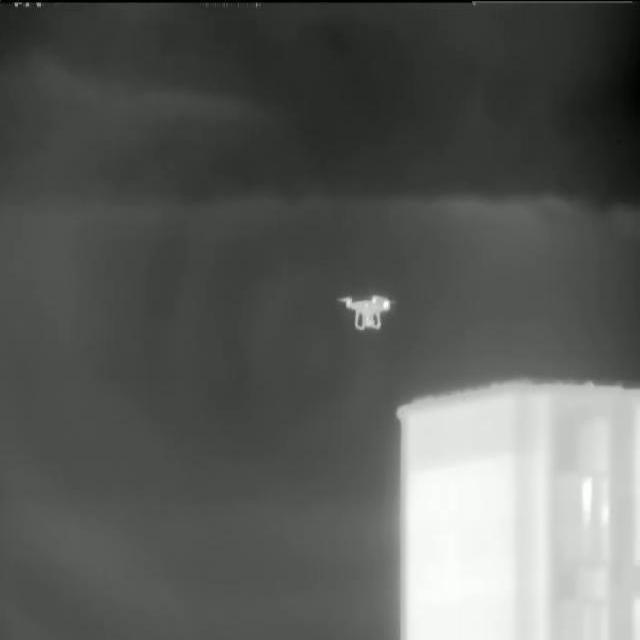DRONE: (334, 292, 399, 330)
